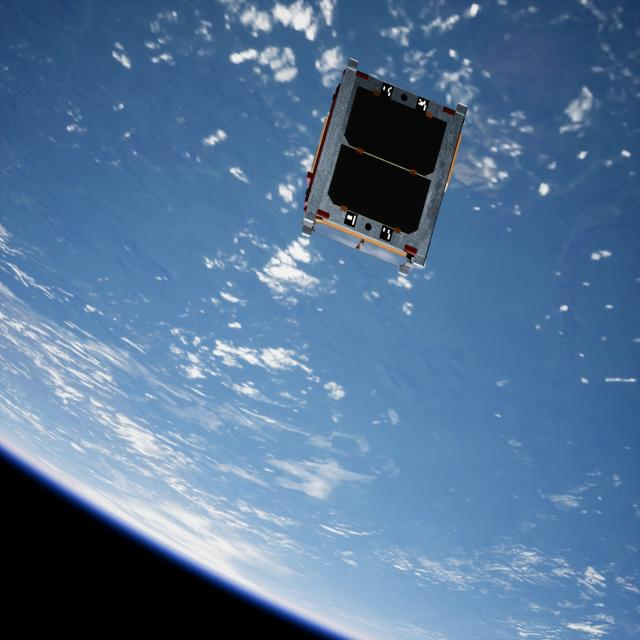medium_debris: (301, 50, 468, 273)
